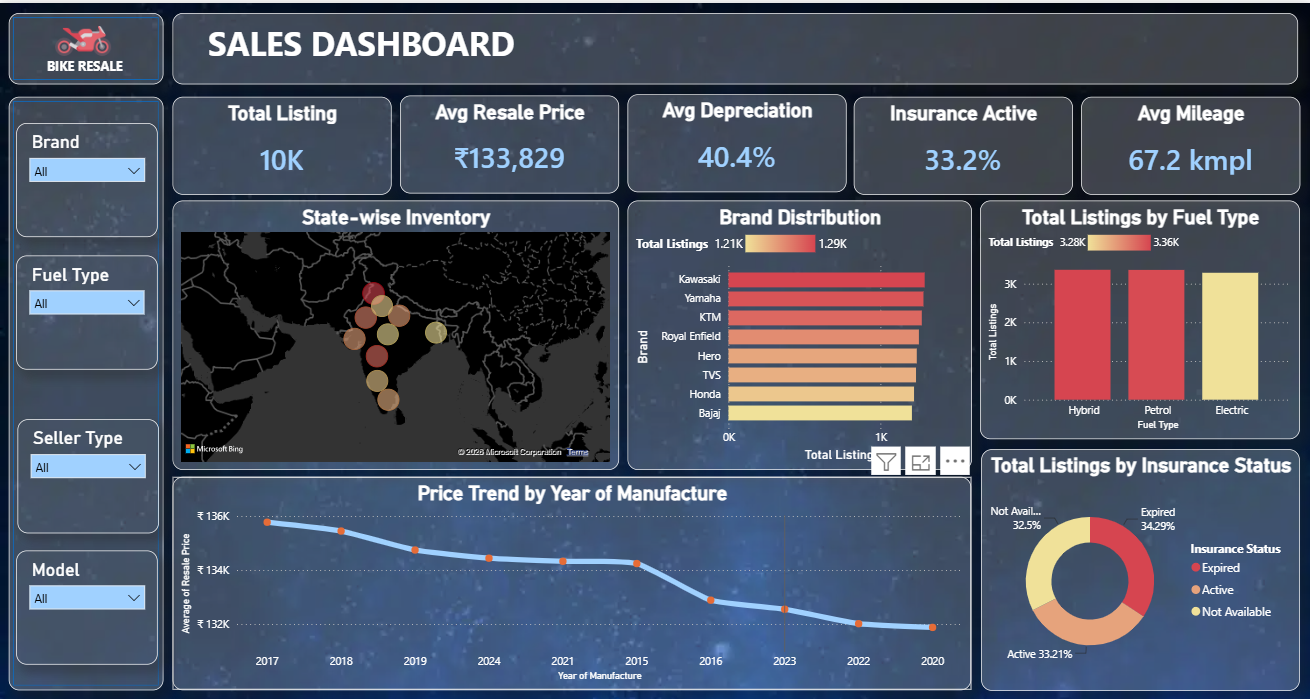

The dashboard page shown, as its layout file describes it:
{"tool":"powerbi","page":{"name":"Page 1","canvas":[1500,800],"ordinal":0},"visuals":[{"type":"cardVisual","title":"Total Listing","fields":{"Data":["bike_sales_india.Total Listings"]},"box":[196.7,106.7,250,111.7],"z":0},{"type":"cardVisual","title":"Avg Resale Price","fields":{"Data":["bike_sales_india.Final Raw No"]},"box":[456.8,105.5,250,111.7],"z":1000},{"type":"cardVisual","title":"Avg Depreciation","fields":{"Data":["bike_sales_india.Avg Depreciation %"]},"box":[716.4,104.3,250,111.7],"z":2000},{"type":"cardVisual","title":"Insurance Active","fields":{"Data":["bike_sales_india.Insurance %"]},"box":[976.1,106.7,250,111.7],"z":3000},{"type":"cardVisual","title":"Avg Mileage","fields":{"Data":["bike_sales_india.Avg Mileage Text"]},"box":[1235,106.7,250,111.7],"z":4000},{"type":"barChart","title":"Brand Distribution","fields":{"Category":["bike_sales_india.Brand"],"Y":["bike_sales_india.Total Listings"]},"box":[716.7,225,393.3,308.3],"z":5000},{"type":"clusteredColumnChart","fields":{"Category":["bike_sales_india.Fuel Type"],"Y":["bike_sales_india.Total Listings"]},"box":[1120,225.7,365.7,272.9],"z":6000},{"type":"map","title":"State-wise Inventory","fields":{"Category":["bike_sales_india.State"],"Size":["bike_sales_india.Total Listings"]},"box":[196.7,225,510,308.3],"z":7000},{"type":"lineChart","title":"Price Trend by Year of Manufacture","fields":{"Category":["bike_sales_india.Year of Manufacture"],"Y":["Avg(bike_sales_india.Resale Price)"]},"box":[197.1,541.4,912.9,244.3],"z":8000},{"type":"shape","box":[10,106.7,176.7,678.3],"z":9000},{"type":"donutChart","fields":{"Category":["bike_sales_india.Insurance Status"],"Y":["bike_sales_india.Total Listings"]},"box":[1121.4,510,364.3,275.7],"z":10000},{"type":"textbox","box":[196.7,11.7,1286.7,81.7],"z":11000},{"type":"slicer","fields":{"Values":["bike_sales_india.Fuel Type"]},"box":[18.6,288.6,161.4,130],"z":12000},{"type":"slicer","fields":{"Values":["bike_sales_india.Brand"]},"box":[18.3,136.7,161.7,130],"z":13000},{"type":"slicer","fields":{"Values":["bike_sales_india.Model"]},"box":[18.3,625,161.7,130],"z":14000},{"type":"shape","box":[10,11.7,176.7,81.7],"z":15000},{"type":"textbox","box":[48.6,57.1,128.6,35.7],"z":16000},{"type":"image","box":[41.4,11.4,107.1,64.3],"z":17000},{"type":"slicer","fields":{"Values":["bike_sales_india.Seller Type"]},"box":[20,475.7,161.4,130],"z":18000}]}

Visuals, with their boxes in screenshot pixels (x1, y1, x2, y2), scaled from the page's 1500x800 canvas onto the 1310x699 screenshot:
"Total Listing" cardVisual: x1=172 y1=93 x2=390 y2=191
"Avg Resale Price" cardVisual: x1=399 y1=92 x2=617 y2=190
"Avg Depreciation" cardVisual: x1=626 y1=91 x2=844 y2=189
"Insurance Active" cardVisual: x1=852 y1=93 x2=1071 y2=191
"Avg Mileage" cardVisual: x1=1079 y1=93 x2=1297 y2=191
"Brand Distribution" barChart: x1=626 y1=197 x2=969 y2=466
clusteredColumnChart - bike_sales_india.Fuel Type x bike_sales_india.Total Listings: x1=978 y1=197 x2=1298 y2=436
"State-wise Inventory" map: x1=172 y1=197 x2=617 y2=466
"Price Trend by Year of Manufacture" lineChart: x1=172 y1=473 x2=969 y2=687
shape: x1=9 y1=93 x2=163 y2=686
donutChart - bike_sales_india.Insurance Status x bike_sales_india.Total Listings: x1=979 y1=446 x2=1298 y2=687
textbox: x1=172 y1=10 x2=1296 y2=82
slicer - bike_sales_india.Fuel Type: x1=16 y1=252 x2=157 y2=366
slicer - bike_sales_india.Brand: x1=16 y1=119 x2=157 y2=233
slicer - bike_sales_india.Model: x1=16 y1=546 x2=157 y2=660
shape: x1=9 y1=10 x2=163 y2=82
textbox: x1=42 y1=50 x2=155 y2=81
image: x1=36 y1=10 x2=130 y2=66
slicer - bike_sales_india.Seller Type: x1=17 y1=416 x2=158 y2=529
